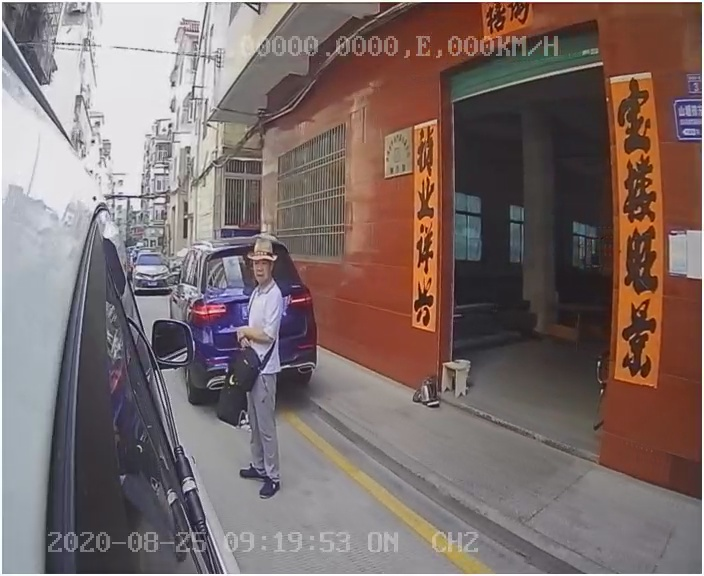person: (224, 238, 304, 503)
